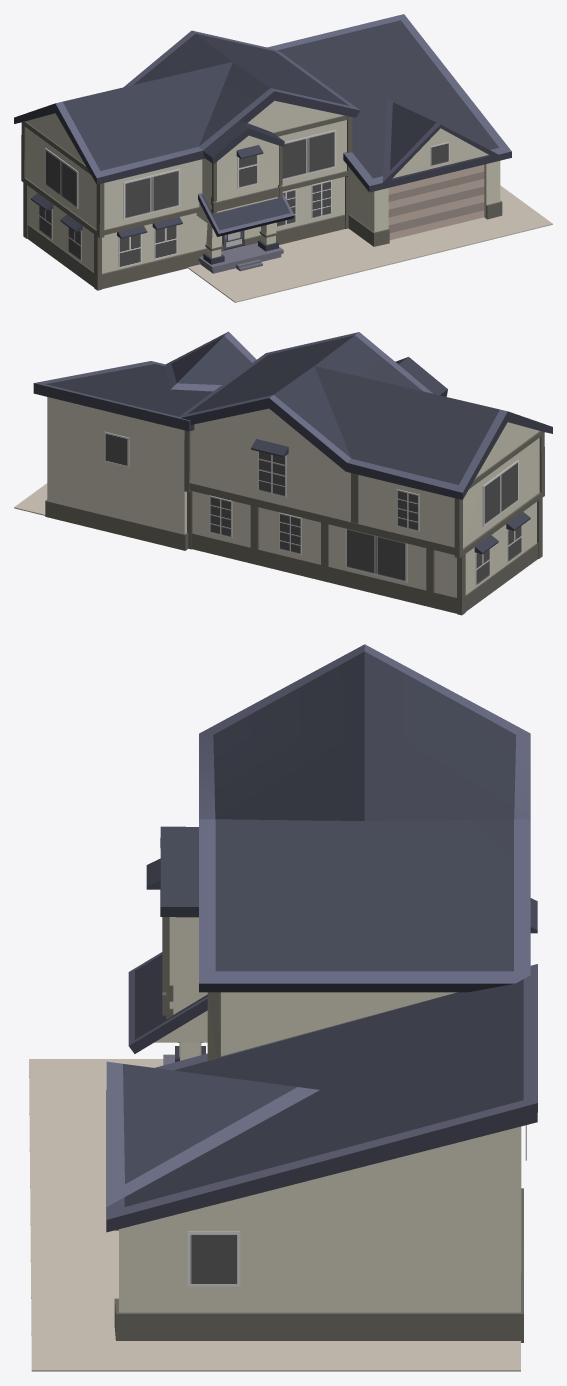
Rendered from house02_color02.fbx.
3 renders of one model, top to bottom at view 1: azimuth 30°, elevation 25°; view 2: azimuth 150°, elevation 25°; view 3: azimuth 270°, elevation 25°, orthographic. The views are drawn at different scales.
Visible parts, largest first — view 1: Cube.400, Cube.401; view 2: Cube.400, Cube.401; view 3: Cube.400, Cube.401.
Boxes of the visible parts, left/top/right/bottom form: Cube.400: left=14, top=14, right=511, bottom=290; Cube.401: left=188, top=185, right=552, bottom=302; Cube.400: left=33, top=331, right=552, bottom=615; Cube.401: left=14, top=483, right=47, bottom=515; Cube.400: left=106, top=644, right=537, bottom=1342; Cube.401: left=29, top=1059, right=520, bottom=1371.
Bounding box in the file's own units: 2465 × 917 × 1310.
